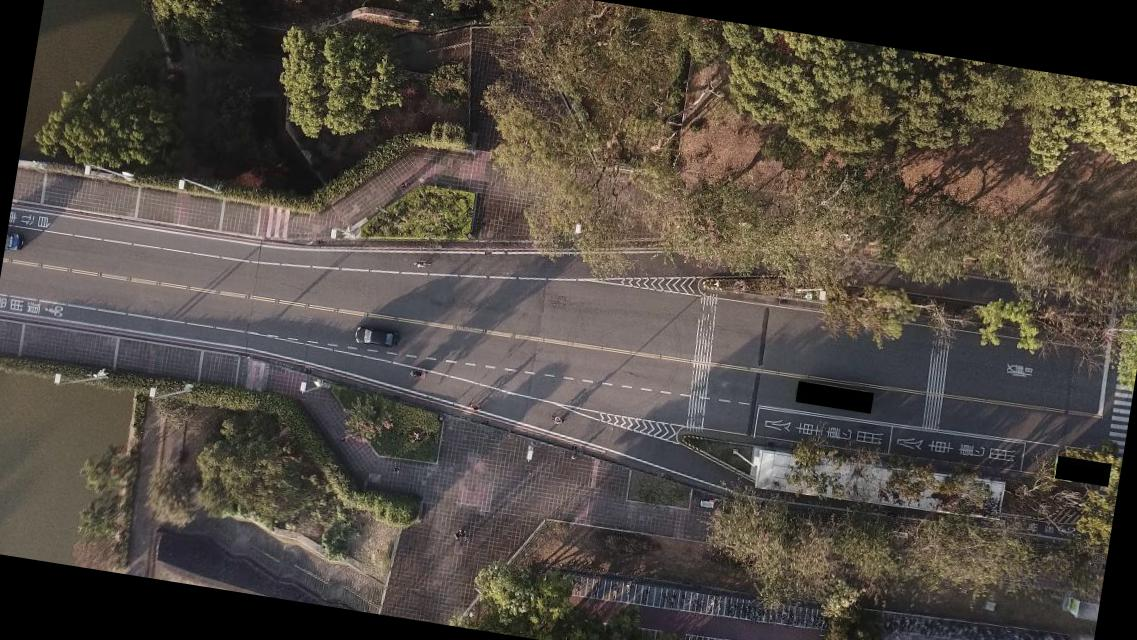vehicle: (353, 326, 399, 350)
